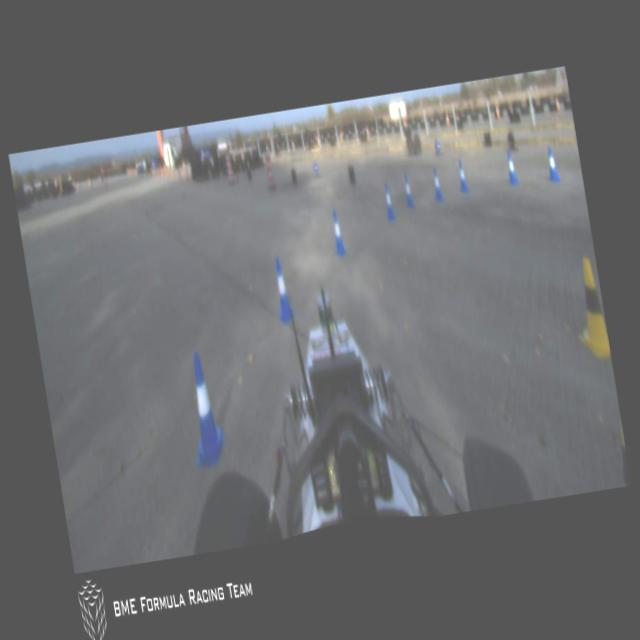blue_cone: (179, 350, 228, 468), (268, 256, 295, 322), (329, 208, 347, 256), (544, 146, 560, 183), (504, 150, 520, 187), (382, 182, 396, 223), (402, 172, 416, 210), (430, 165, 444, 203), (456, 160, 470, 194)
unknown_cone: (347, 165, 357, 186), (290, 168, 297, 185)
yellow_cone: (568, 256, 612, 364)
